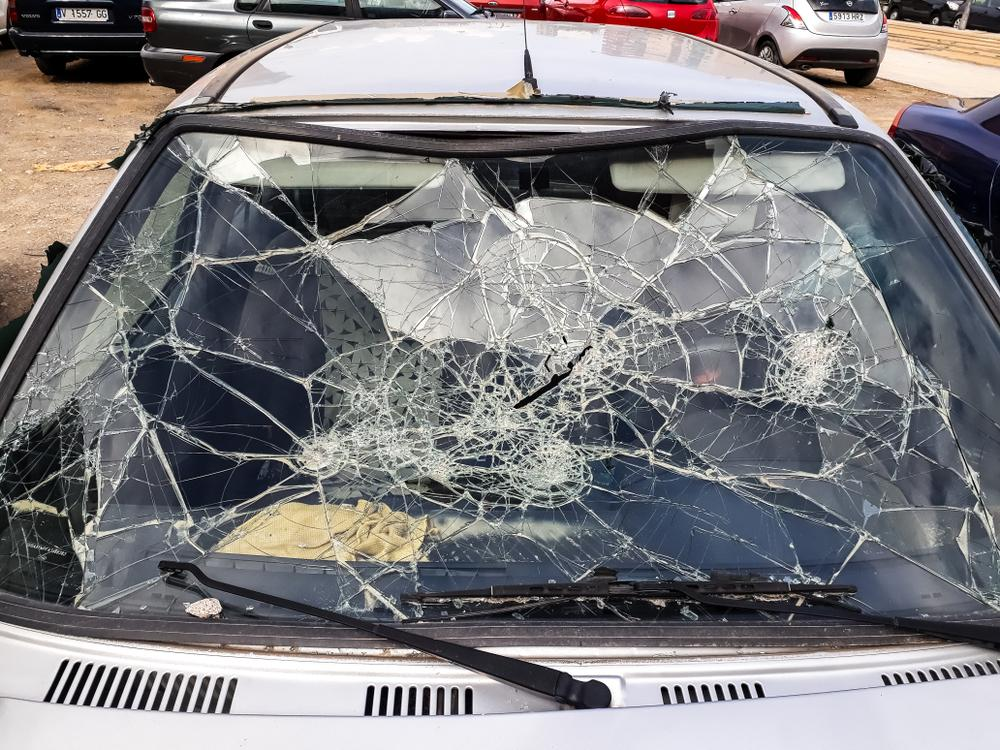glass shatter: (0, 128, 1000, 623)
